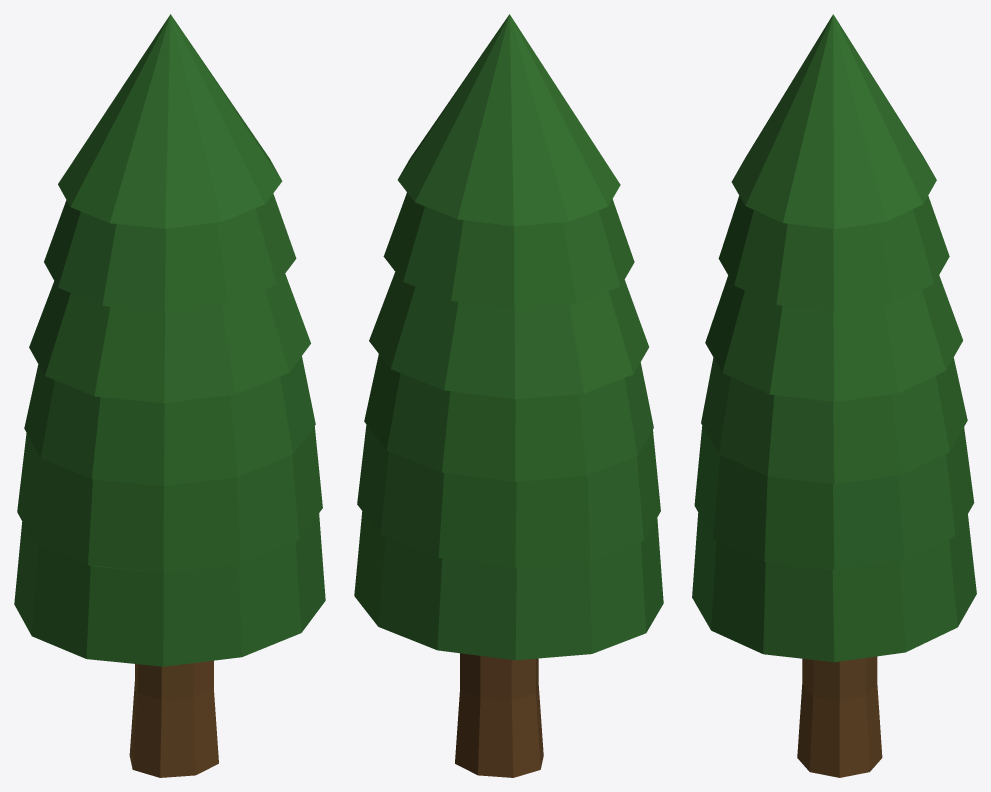
File: PlayTree.fbx
3 views of the same model, side by side, from view 1: azimuth 30°, elevation 25°; view 2: azimuth 150°, elevation 25°; view 3: azimuth 270°, elevation 25° (orthographic).
Visible parts, largest first — view 1: Tree; view 2: Tree; view 3: Tree.
Boxes of the visible parts, box(x1,y1,x2,y2) form: Tree: box(14, 14, 325, 777); Tree: box(354, 14, 663, 777); Tree: box(692, 14, 976, 777).
Size of the model in its own units: 131 by 339 by 118.
